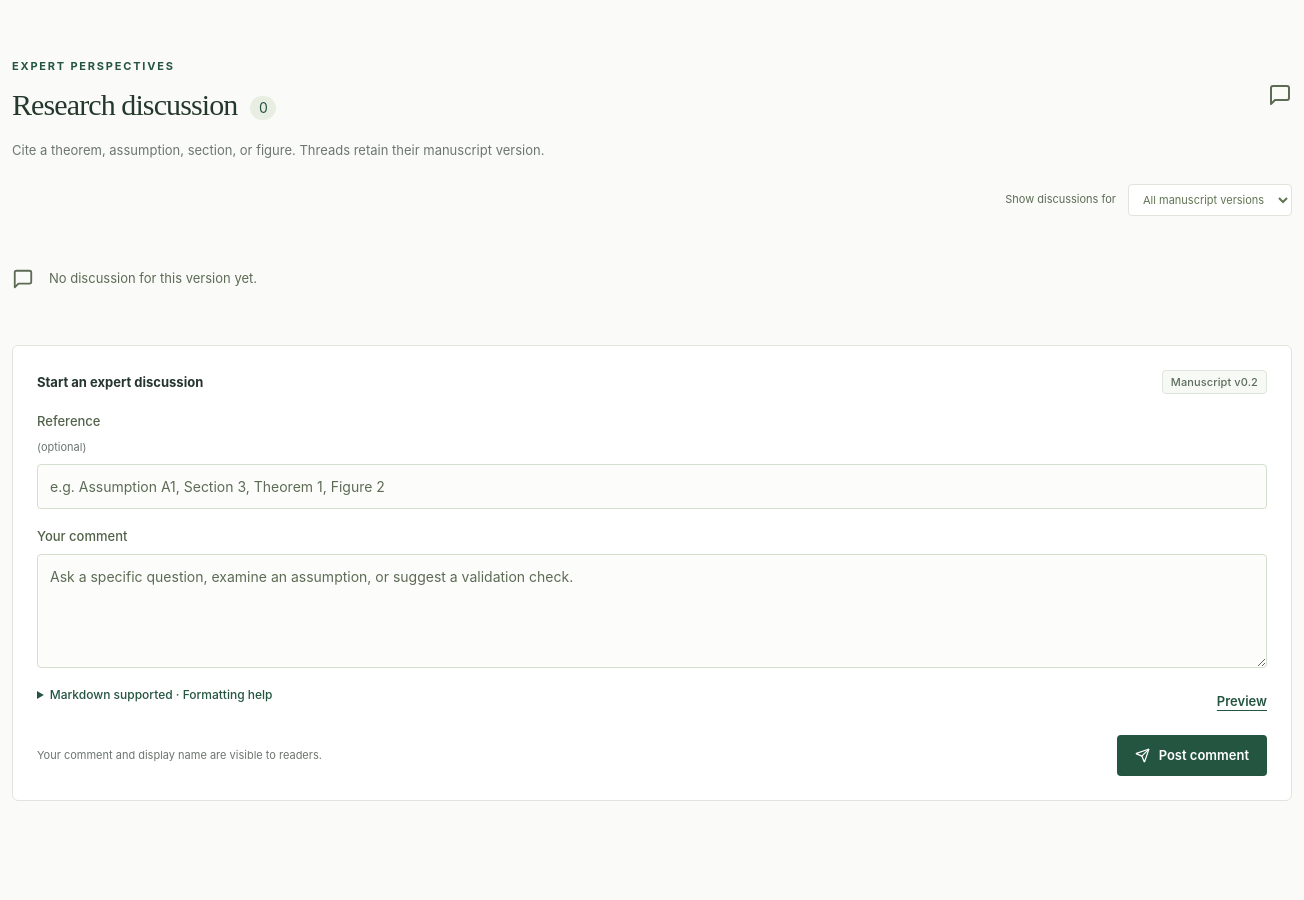
it: Discussion submission recovery › recovers from an unexpected error without discarding the draft or leaving Posting stuck
Type "Please inspect this assumption." into the text box labelled "Your comment". click: (652, 611)
box: [37,554,1267,668]
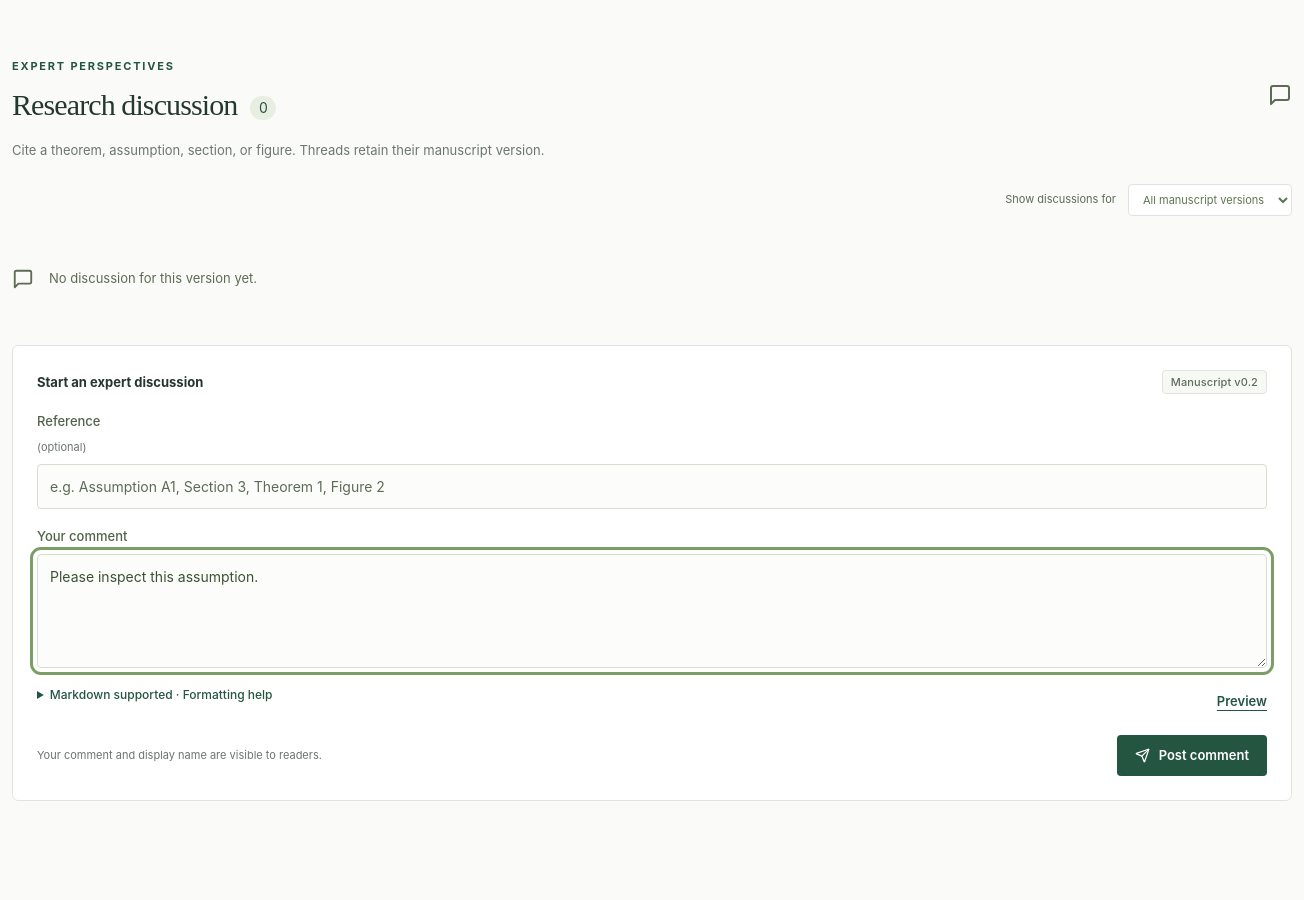
Type "Section 2" into the field labelled "Reference (optional)". click: (652, 486)
box: [37,464,1267,509]
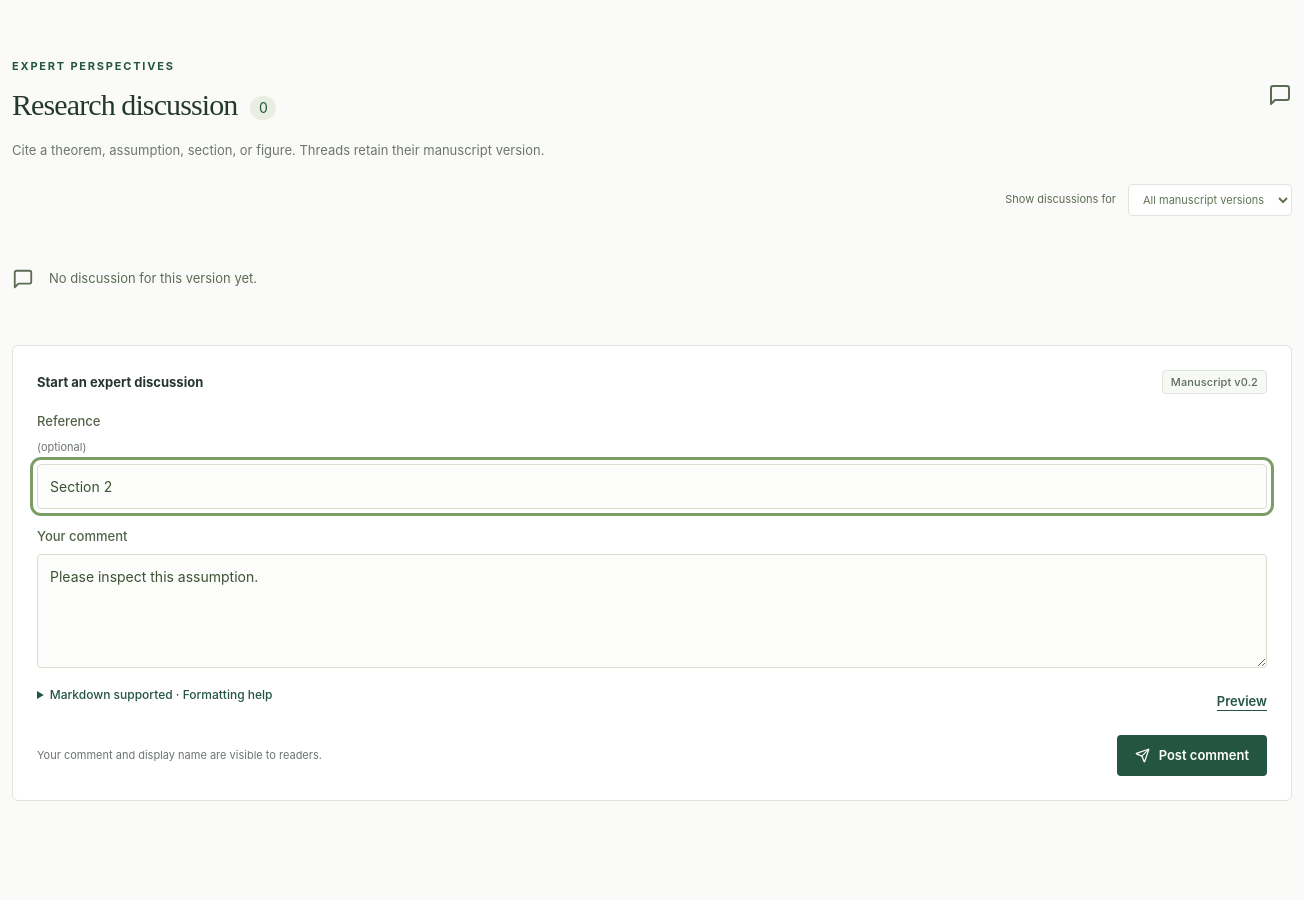
Click the button "Post comment". click: (1192, 756)
box: [1117,735,1267,776]
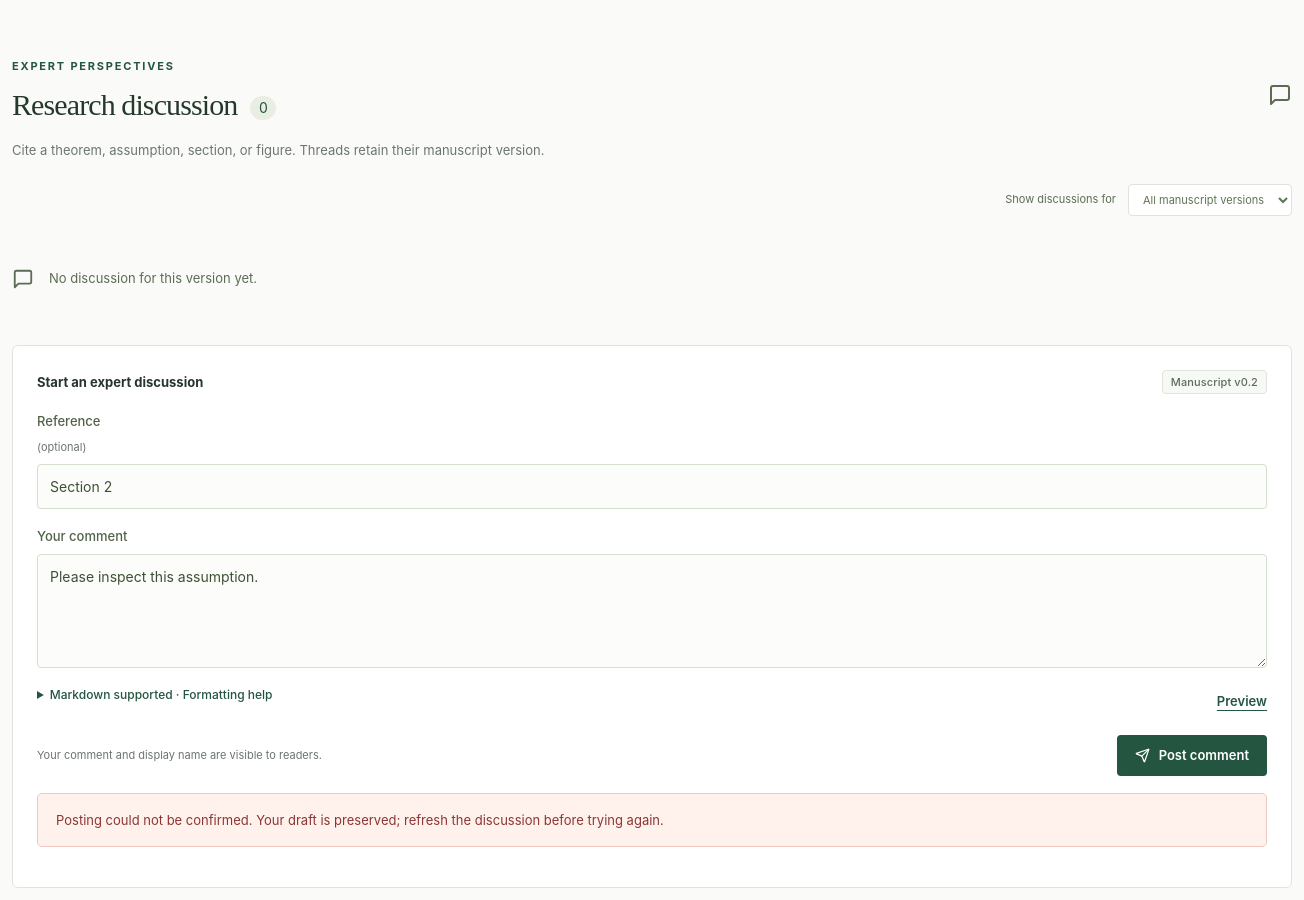
Now the message shows "Your draft is preserved", box [56,812,664,828]
